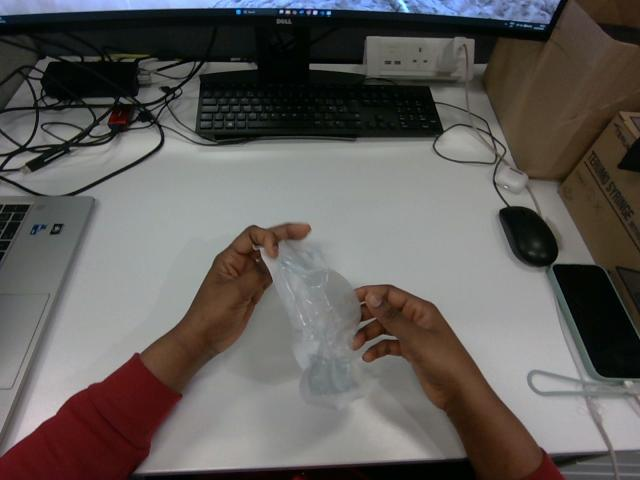gallipot: (262, 240, 371, 408)
